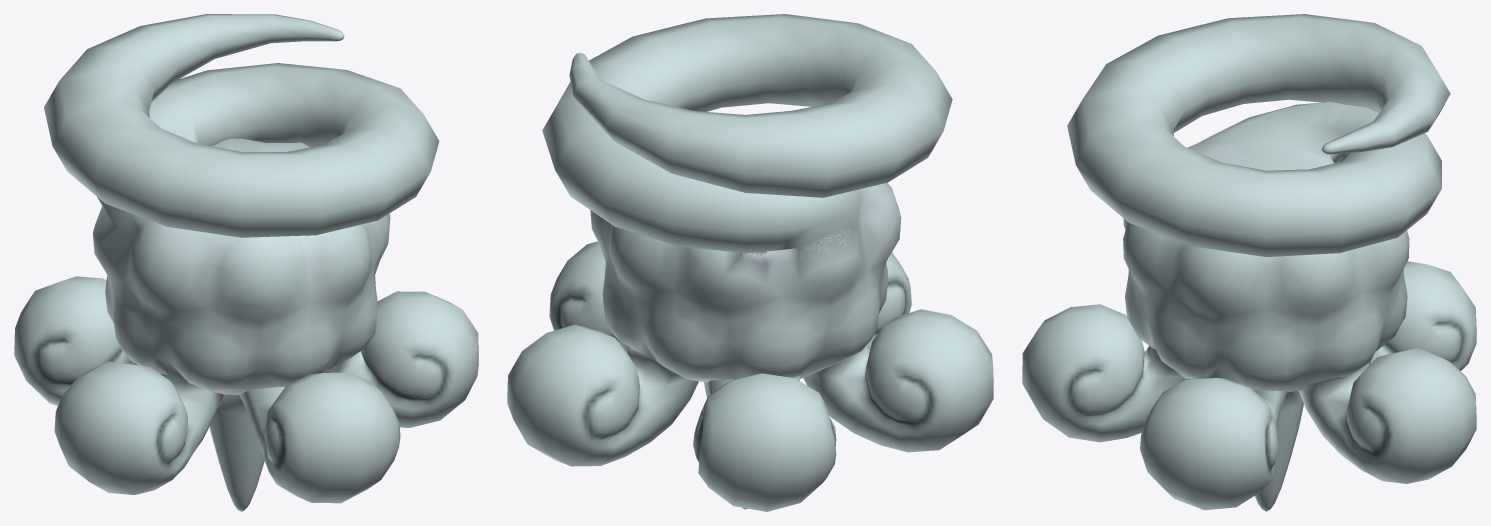
The model's file is castform-snowy.glb.
3 views of the same model, side by side, from view 1: azimuth 30°, elevation 25°; view 2: azimuth 150°, elevation 25°; view 3: azimuth 270°, elevation 25° (orthographic). The views are drawn at different scales.
Parts seen in each view (by area): view 1: PokemonRoot; view 2: PokemonRoot; view 3: PokemonRoot.
Part boxes in pixels (box(x1,y1,x2,y2)): PokemonRoot: box(14, 14, 478, 511); PokemonRoot: box(507, 14, 993, 511); PokemonRoot: box(1022, 14, 1476, 511).
Bounding box in the file's own units: 39.37 × 40.54 × 38.14.
Materials: 5 (5 with a texture image).
